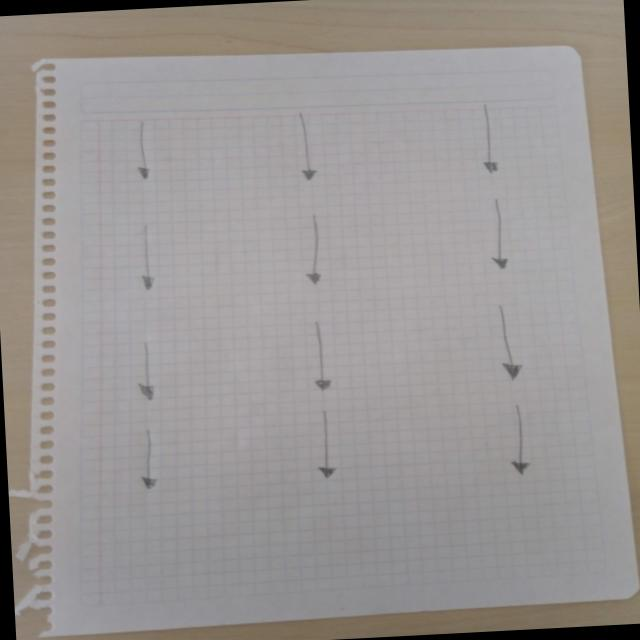arrow_line_down: (493, 406, 548, 478), (298, 323, 347, 394), (478, 200, 524, 275), (464, 103, 508, 179), (489, 302, 530, 383), (287, 110, 326, 187), (124, 118, 160, 188), (314, 408, 348, 482), (296, 216, 328, 292), (129, 219, 158, 291), (135, 340, 167, 400), (134, 432, 162, 489)
